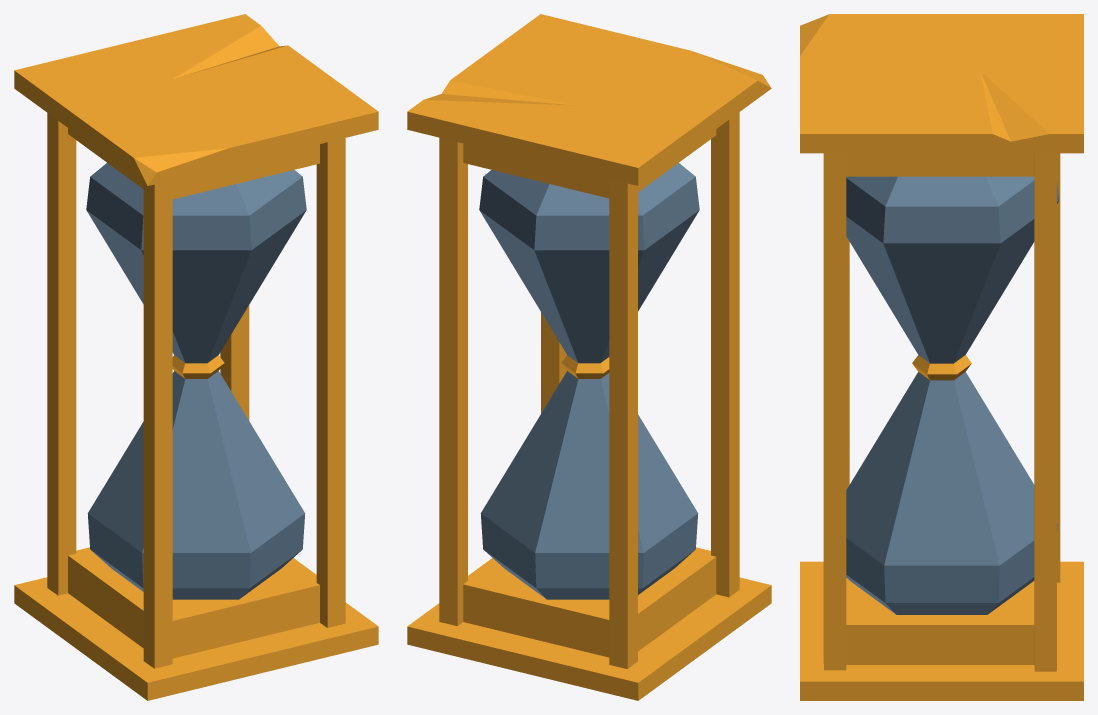
The model's file is SM_Hourglass_A.fbx.
3 renders of one model, left to right at view 1: azimuth 30°, elevation 25°; view 2: azimuth 150°, elevation 25°; view 3: azimuth 270°, elevation 25°, orthographic. The views are drawn at different scales.
Visible parts, largest first — view 1: hourglass-a; view 2: hourglass-a; view 3: hourglass-a.
Boxes of the visible parts, x1,y1,x2,y2 form: hourglass-a: (14, 14, 378, 700); hourglass-a: (407, 14, 771, 700); hourglass-a: (800, 14, 1083, 700).
Size of the model in its own units: 0.1093 by 0.241 by 0.1093.
